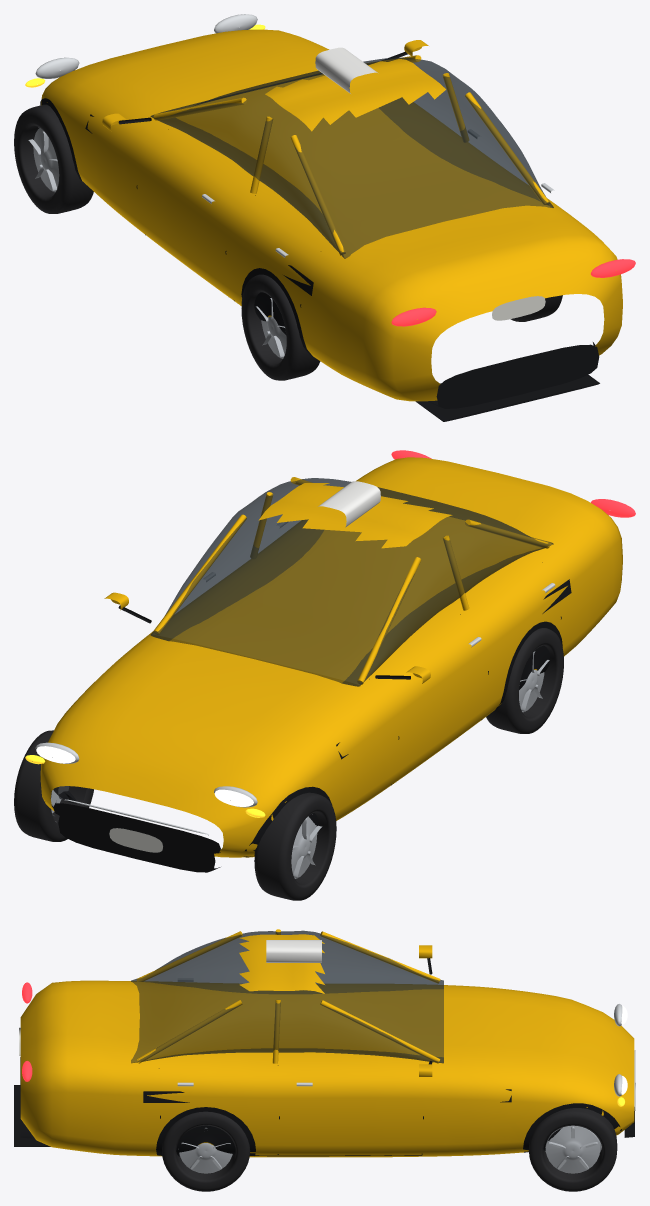
Rendered from taxi.63fb7443.glb.
3 views of the same model, one above another, from view 1: azimuth 30°, elevation 25°; view 2: azimuth 150°, elevation 25°; view 3: azimuth 270°, elevation 25° (orthographic). The views are drawn at different scales.
Visible parts, largest first — view 1: chassis, wheel_fl, wheel_rl; view 2: chassis, wheel_fl, wheel_rl, wheel_fr; view 3: chassis, wheel_fr, wheel_rr.
Part boxes in pixels (x1=…): chassis: x1=25, y1=14, x2=635, y2=421; wheel_fl: x1=14, y1=104, x2=93, y2=213; wheel_rl: x1=241, y1=274, x2=320, y2=380; chassis: x1=25, y1=450, x2=635, y2=872; wheel_fl: x1=254, y1=792, x2=336, y2=900; wheel_rl: x1=486, y1=628, x2=563, y2=733; wheel_fr: x1=14, y1=730, x2=93, y2=841; chassis: x1=14, y1=929, x2=635, y2=1157; wheel_fr: x1=529, y1=1108, x2=617, y2=1191; wheel_rr: x1=162, y1=1111, x2=250, y2=1191.
Bounding box in the file's own units: 2.26 × 1.64 × 4.71.
